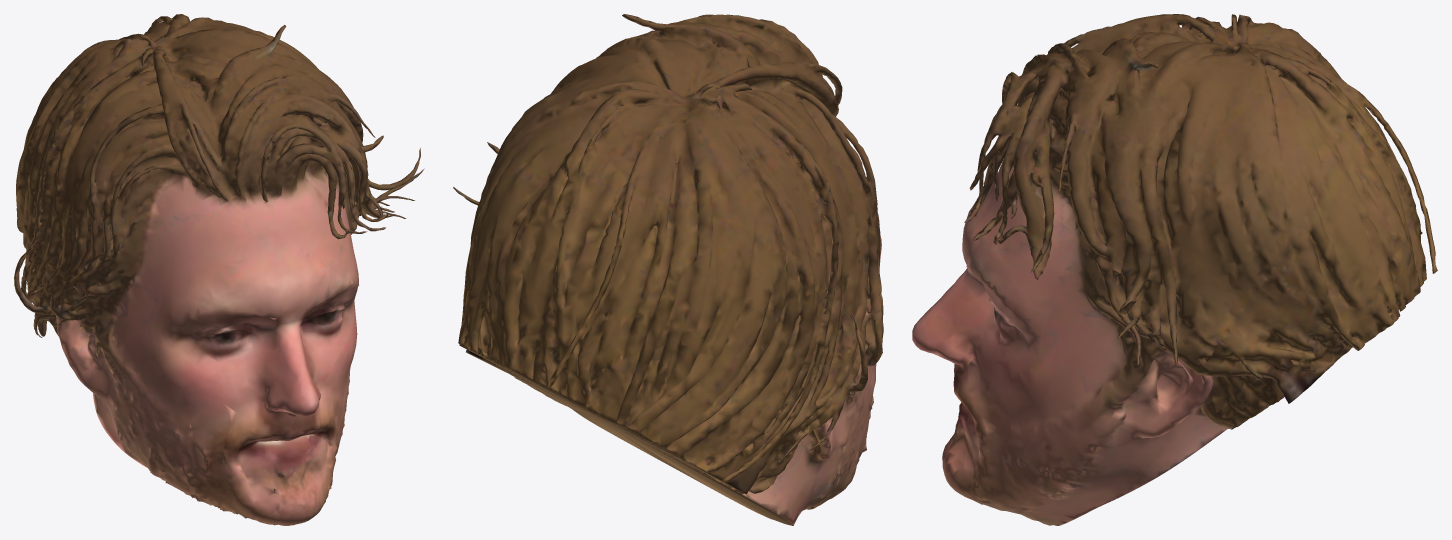
The model's file is head_peter.glb.
The picture shows the model from 3 angles, left to right: view 1: azimuth 30°, elevation 25°; view 2: azimuth 150°, elevation 25°; view 3: azimuth 270°, elevation 25°; orthographic projection. The views are drawn at different scales.
Parts seen in each view (by area): view 1: Peter; view 2: Peter; view 3: Peter.
Boxes of the visible parts, left/top/right/bottom form: Peter: left=14, top=14, right=424, bottom=525; Peter: left=453, top=14, right=883, bottom=525; Peter: left=912, top=14, right=1437, bottom=525.
Size of the model in its own units: 0.244 by 0.2701 by 0.2597.
1 material, 1 textured.
